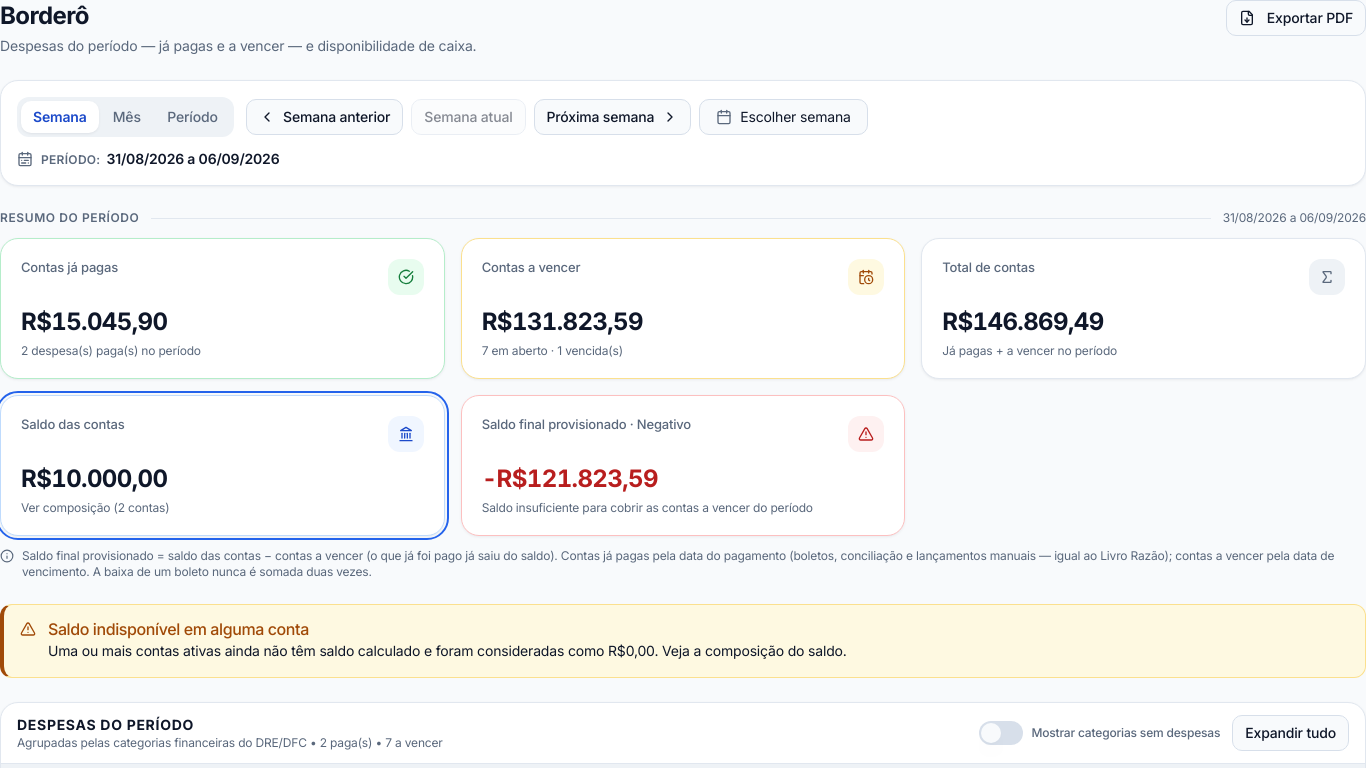
Test: Borderô — tela › V2 — composição do saldo devolve o foco ao card ao fechar; conta sem saldo tem selo
The image size is (1366, 768).
Click the button with aria-label "Saldo das contas — ver composição" at (73, 424), box [0,395,445,536]
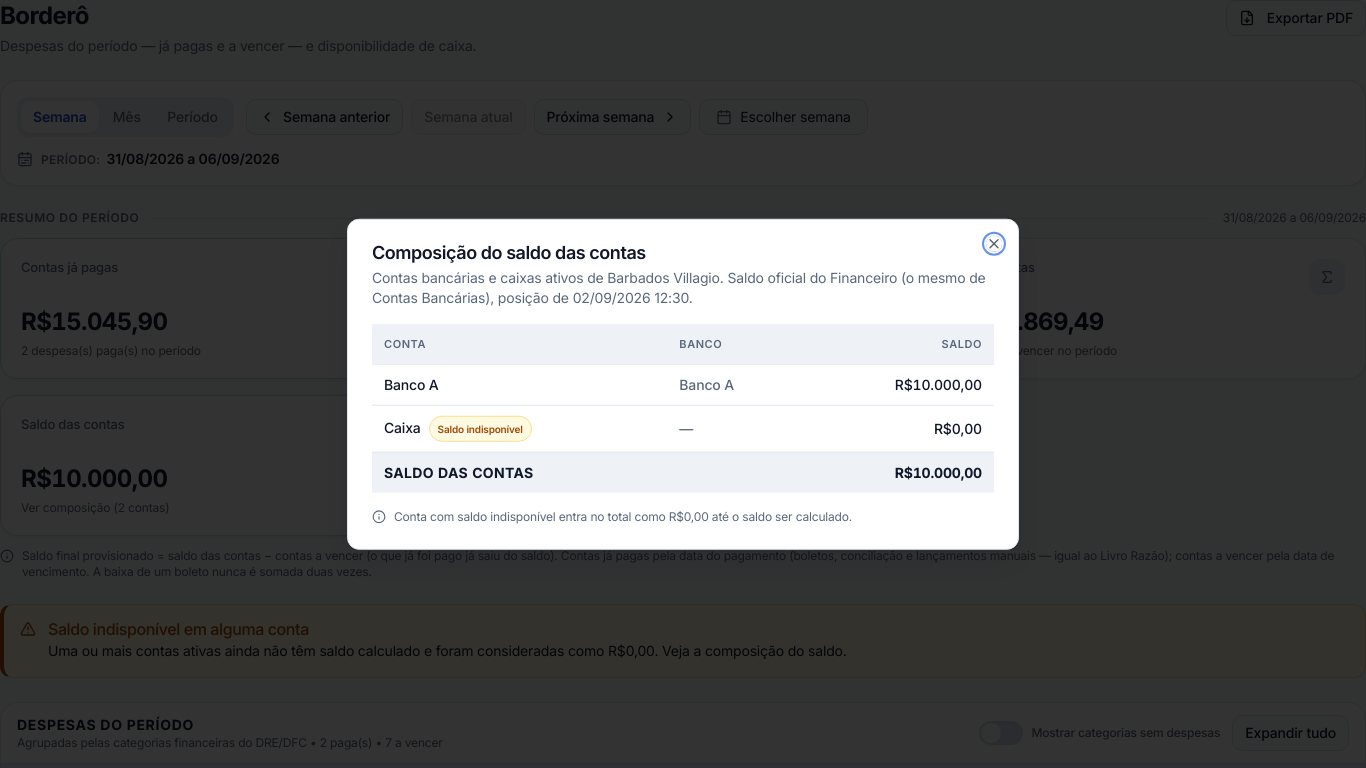
Result: the text "Saldo indisponível" is shown at [429,415,532,441]
Press Escape in the dialog "Composição do saldo das contas", box [347,219,1019,549]
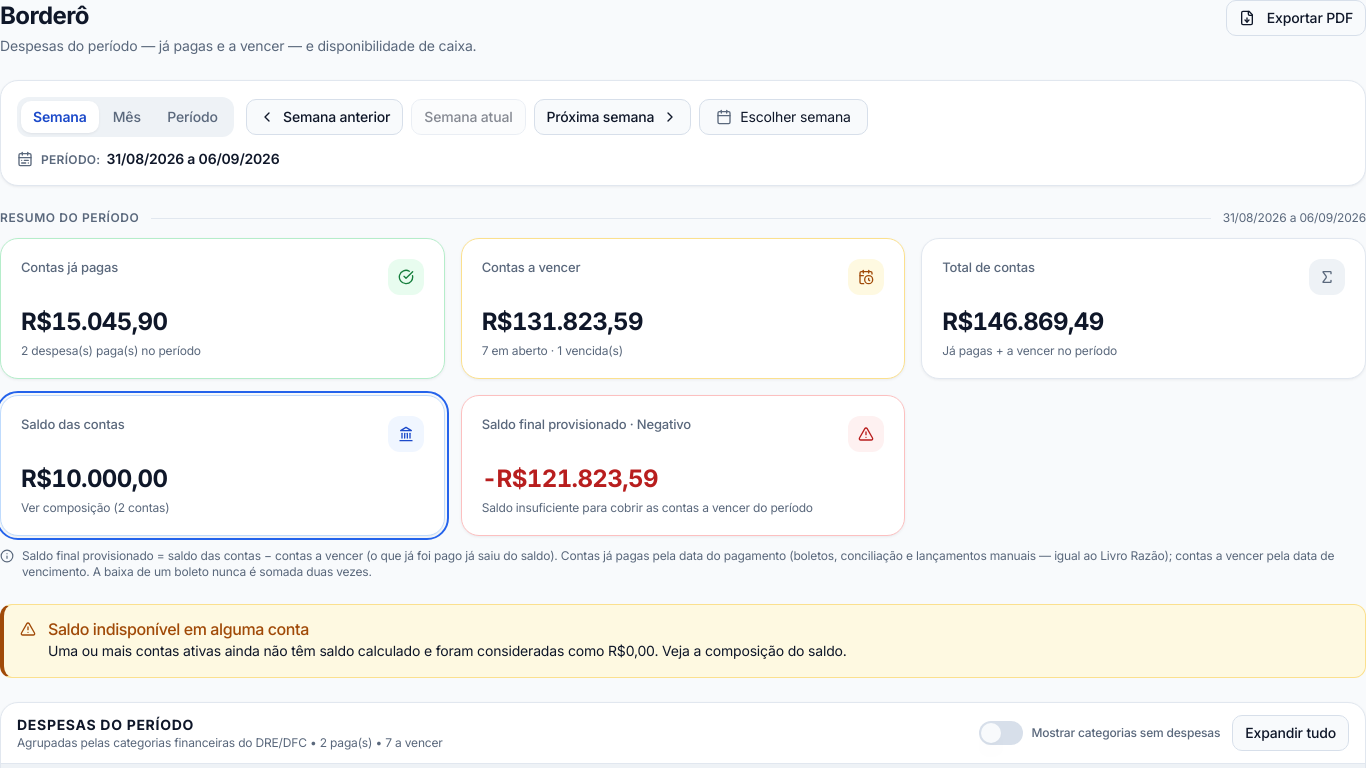
Result: the dialog is gone
